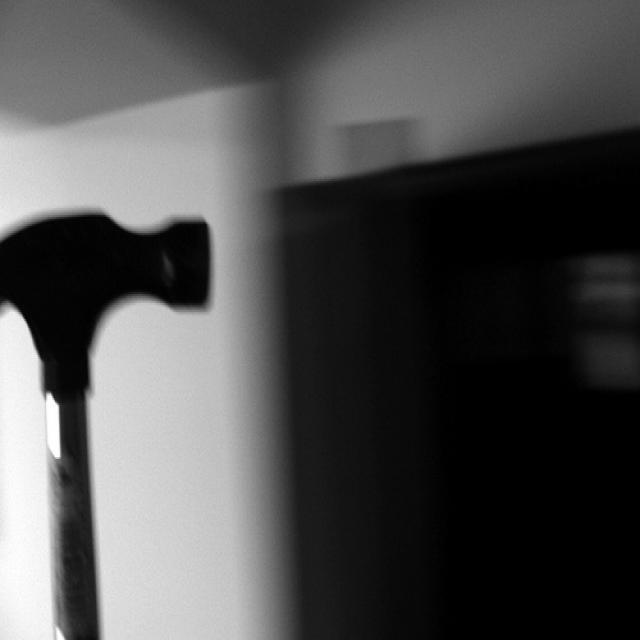hammer: (0, 188, 226, 640)
